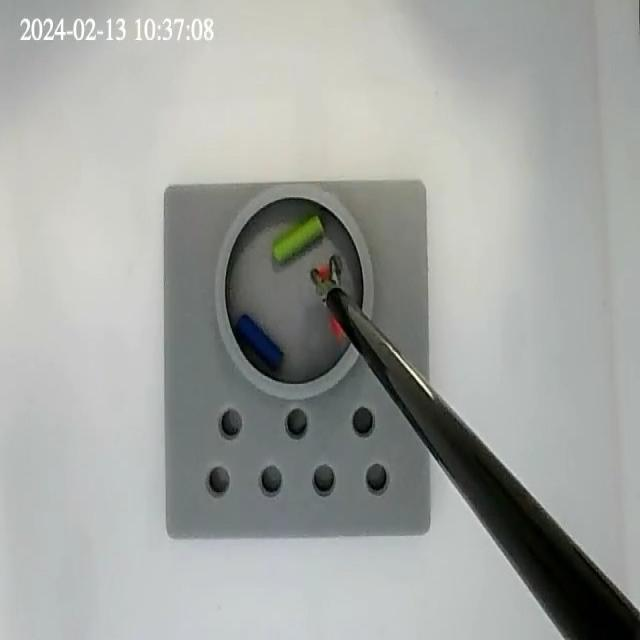EmptyHole: (216, 403, 243, 441), (364, 459, 390, 496), (350, 404, 376, 438), (283, 405, 308, 439), (207, 464, 231, 497), (312, 462, 336, 495), (259, 462, 282, 496)
